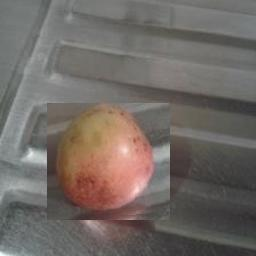Mango Semifresh: (48, 103, 171, 220)
